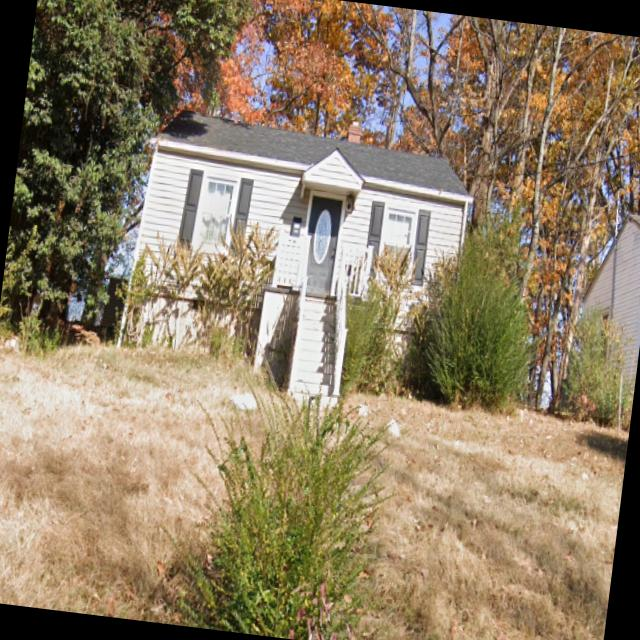House: (115, 92, 482, 406), (558, 205, 640, 420)
